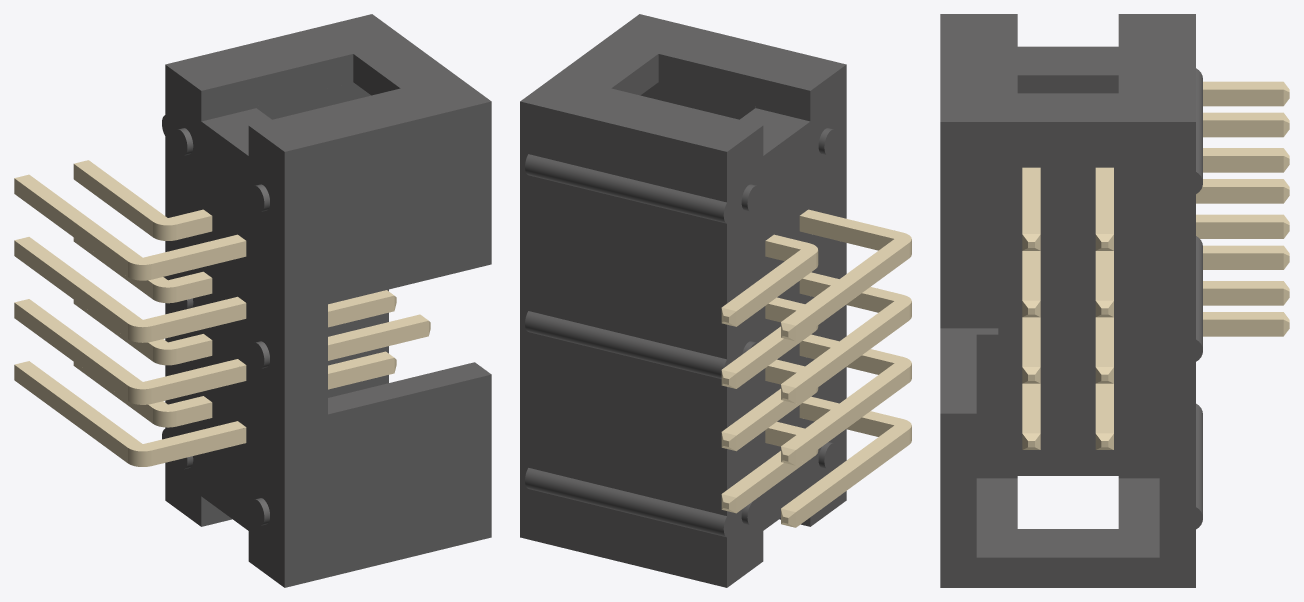
File: IDC-Header_2x04_P2.54mm_Horizontal.glb
3 renders of one model, left to right at view 1: azimuth 30°, elevation 25°; view 2: azimuth 150°, elevation 25°; view 3: azimuth 270°, elevation 25°, orthographic. The views are drawn at different scales.
Parts seen in each view (by area): view 1: Shape_IndexedFaceSet, Shape_IndexedFaceSet.007, Shape_IndexedFaceSet.001, Shape_IndexedFaceSet.011, Shape_IndexedFaceSet.059, Shape_IndexedFaceSet.014, Shape_IndexedFaceSet.060, Shape_IndexedFaceSet.042, Shape_IndexedFaceSet.093, Shape_IndexedFaceSet.076, Shape_IndexedFaceSet.005, Shape_IndexedFaceSet.046 (+14 smaller); view 2: Shape_IndexedFaceSet.008, Shape_IndexedFaceSet.007, Shape_IndexedFaceSet.001, Shape_IndexedFaceSet.009, Shape_IndexedFaceSet.025, Shape_IndexedFaceSet.023, Shape_IndexedFaceSet.024, Shape_IndexedFaceSet.076, Shape_IndexedFaceSet.042, Shape_IndexedFaceSet.093, Shape_IndexedFaceSet.059, Shape_IndexedFaceSet.046 (+18 smaller); view 3: Shape_IndexedFaceSet.017, Shape_IndexedFaceSet.002, Shape_IndexedFaceSet.001, Shape_IndexedFaceSet.013, Shape_IndexedFaceSet.004, Shape_IndexedFaceSet.005, Shape_IndexedFaceSet.026, Shape_IndexedFaceSet.076, Shape_IndexedFaceSet.144, Shape_IndexedFaceSet.059, Shape_IndexedFaceSet.127, Shape_IndexedFaceSet.042 (+14 smaller).
Part boxes in pixels (x1,y1,x2,y2): Shape_IndexedFaceSet: (284, 101, 491, 587); Shape_IndexedFaceSet.007: (162, 65, 284, 587); Shape_IndexedFaceSet.001: (165, 14, 491, 151); Shape_IndexedFaceSet.011: (201, 54, 353, 121); Shape_IndexedFaceSet.059: (14, 299, 428, 389); Shape_IndexedFaceSet.014: (256, 82, 388, 397); Shape_IndexedFaceSet.060: (151, 320, 428, 403); Shape_IndexedFaceSet.042: (15, 361, 245, 451); Shape_IndexedFaceSet.093: (15, 237, 245, 327); Shape_IndexedFaceSet.076: (14, 174, 245, 264); Shape_IndexedFaceSet.005: (328, 362, 491, 414); Shape_IndexedFaceSet.046: (14, 365, 127, 462); Shape_IndexedFaceSet.008: (520, 101, 726, 587); Shape_IndexedFaceSet.007: (723, 64, 846, 587); Shape_IndexedFaceSet.001: (520, 14, 846, 151); Shape_IndexedFaceSet.009: (658, 54, 810, 121); Shape_IndexedFaceSet.025: (525, 154, 726, 223); Shape_IndexedFaceSet.023: (525, 468, 726, 537); Shape_IndexedFaceSet.024: (525, 311, 726, 378); Shape_IndexedFaceSet.076: (781, 209, 911, 325); Shape_IndexedFaceSet.042: (781, 396, 911, 511); Shape_IndexedFaceSet.093: (781, 272, 911, 387); Shape_IndexedFaceSet.059: (781, 334, 911, 449); Shape_IndexedFaceSet.046: (796, 429, 909, 527); Shape_IndexedFaceSet.017: (976, 75, 1159, 478); Shape_IndexedFaceSet.002: (940, 122, 1195, 587); Shape_IndexedFaceSet.001: (940, 14, 1195, 121); Shape_IndexedFaceSet.013: (976, 478, 1159, 557); Shape_IndexedFaceSet.004: (940, 217, 998, 328); Shape_IndexedFaceSet.005: (940, 328, 998, 413); Shape_IndexedFaceSet.026: (1017, 46, 1118, 75); Shape_IndexedFaceSet.076: (1022, 81, 1283, 233); Shape_IndexedFaceSet.144: (1095, 112, 1283, 233); Shape_IndexedFaceSet.059: (1022, 214, 1283, 366); Shape_IndexedFaceSet.127: (1095, 245, 1283, 366); Shape_IndexedFaceSet.042: (1022, 281, 1283, 433).
Bounding box in the file's own units: 5.34 × 7.02 × 4.76.
